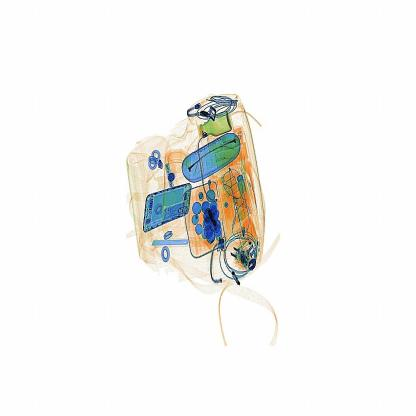pliers: (141, 234, 212, 253)
